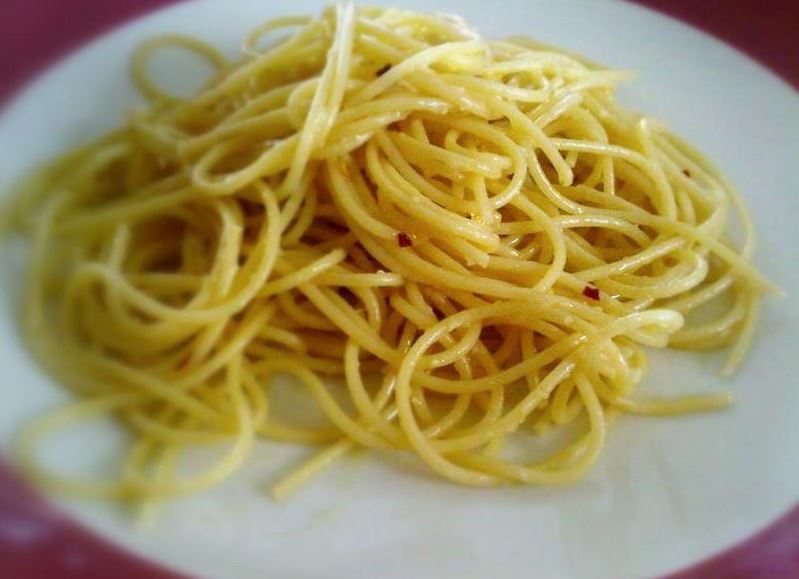plain spaghetti: (99, 50, 696, 481)
